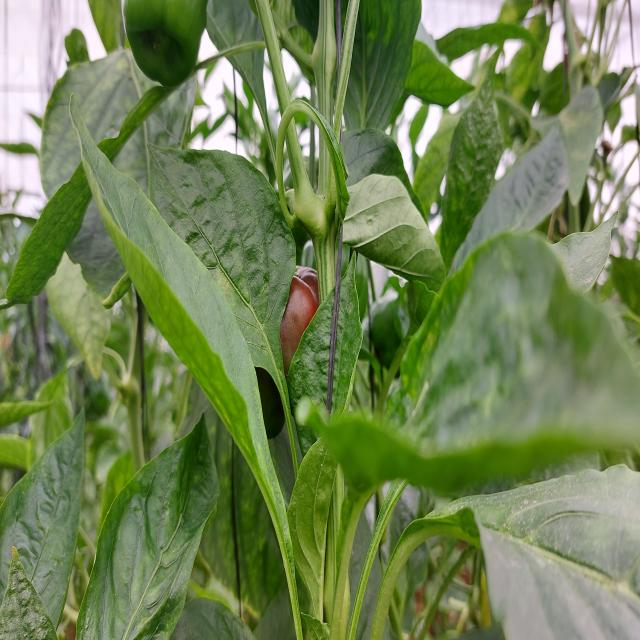BrownishRed--Can-be-Harvested: (206, 269, 334, 444)
